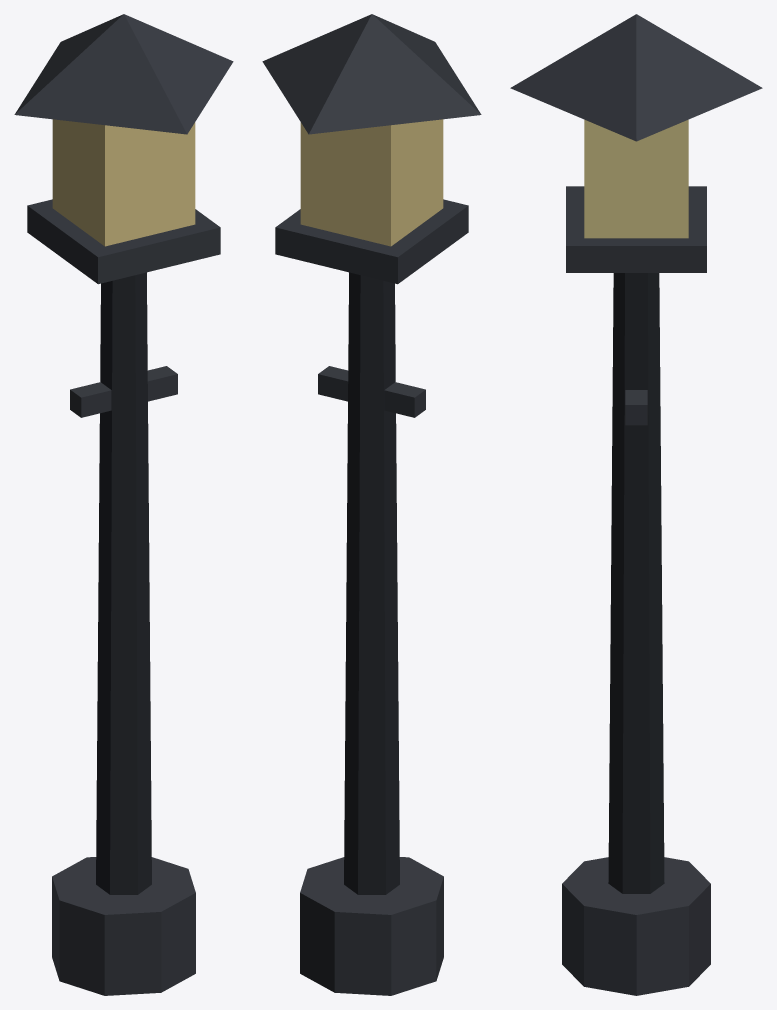
Rendered from Scatter_LampPost.fbx.
3 views of the same model, side by side, from view 1: azimuth 30°, elevation 25°; view 2: azimuth 150°, elevation 25°; view 3: azimuth 270°, elevation 25° (orthographic).
Visible parts, largest first — view 1: LampPost; view 2: LampPost; view 3: LampPost.
Boxes of the visible parts, x1,y1,x2,y2 form: LampPost: (14, 14, 233, 995); LampPost: (262, 14, 481, 995); LampPost: (510, 14, 762, 995).
Size of the model in its own units: 3.4 by 14.1 by 3.4.
